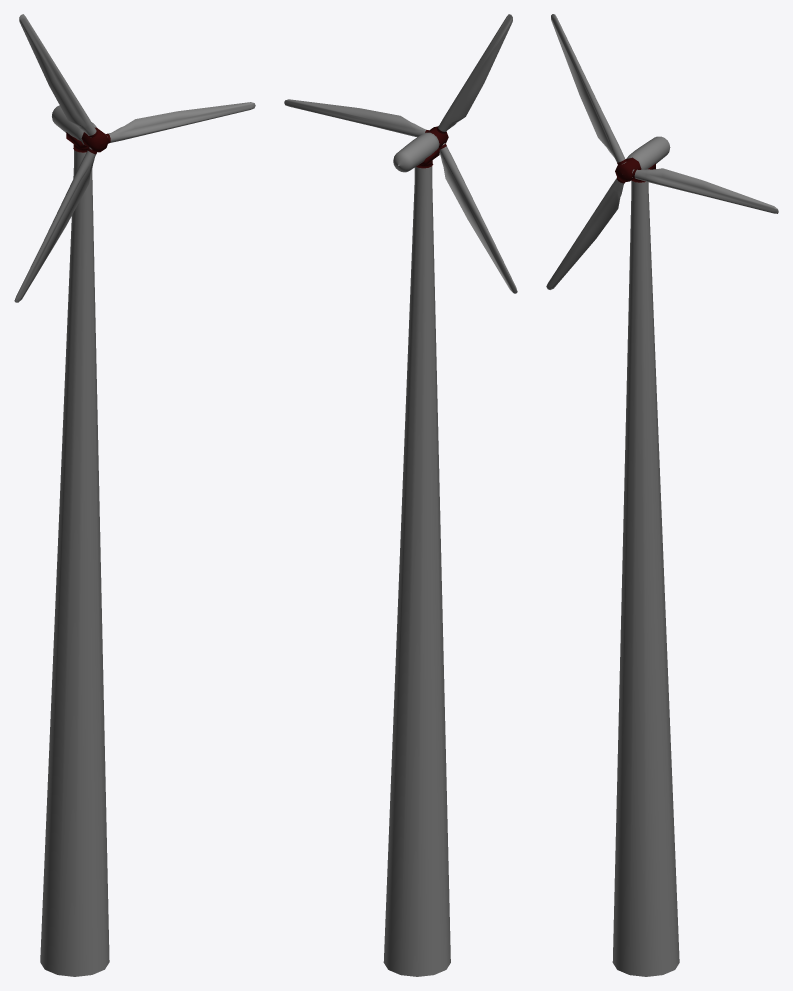
File: fullTurbine_v3_simple.obj
The picture shows the model from 3 angles, left to right: view 1: azimuth 30°, elevation 25°; view 2: azimuth 150°, elevation 25°; view 3: azimuth 330°, elevation 25°; orthographic projection. The views are drawn at different scales.
Visible parts, largest first — view 1: Cylinder.001; view 2: Cylinder.001; view 3: Cylinder.001.
Boxes of the visible parts, <box> form: Cylinder.001: <box>14,14,255,976</box>; Cylinder.001: <box>284,14,517,976</box>; Cylinder.001: <box>546,14,778,976</box>.
Size of the model in its own units: 19.74 by 76.78 by 6.23.
